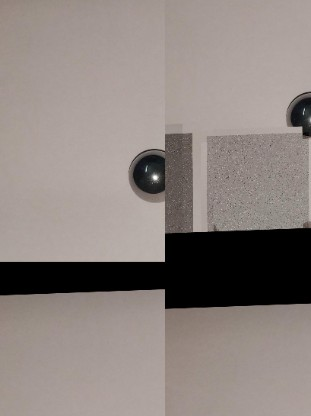ironball: (123, 144, 164, 206), (286, 87, 311, 136)
